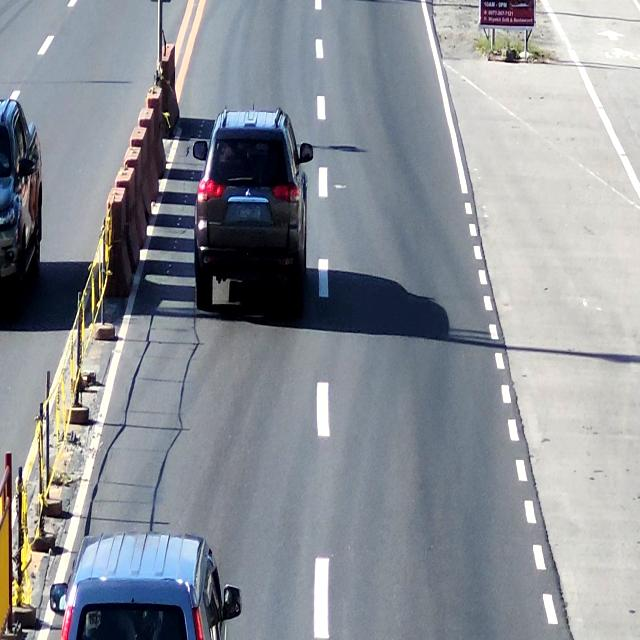Car: (190, 104, 315, 318), (58, 534, 242, 640)
License-Plate: (234, 200, 264, 232)
